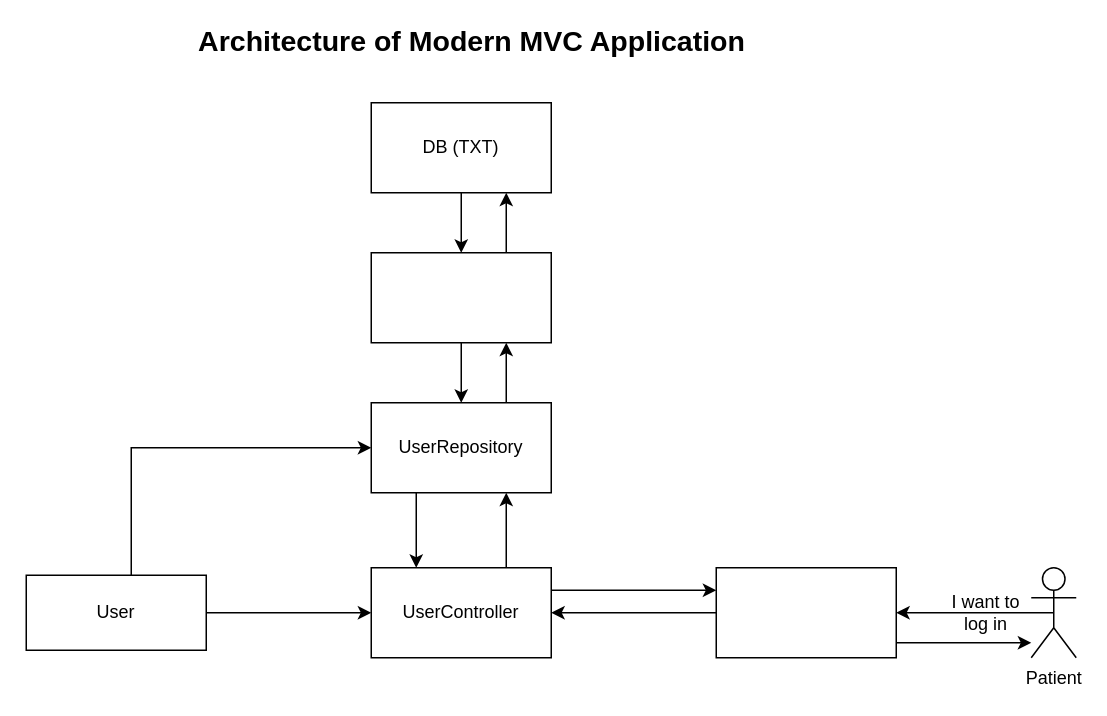
Some shapes in this 1107 by 716 pixel diagram are drawn without their labels. The centre of each missing label's shape, as x and y in pixels:
"FileIO (Connector)" goes at (460,297).
"UI" goes at (805,612).
